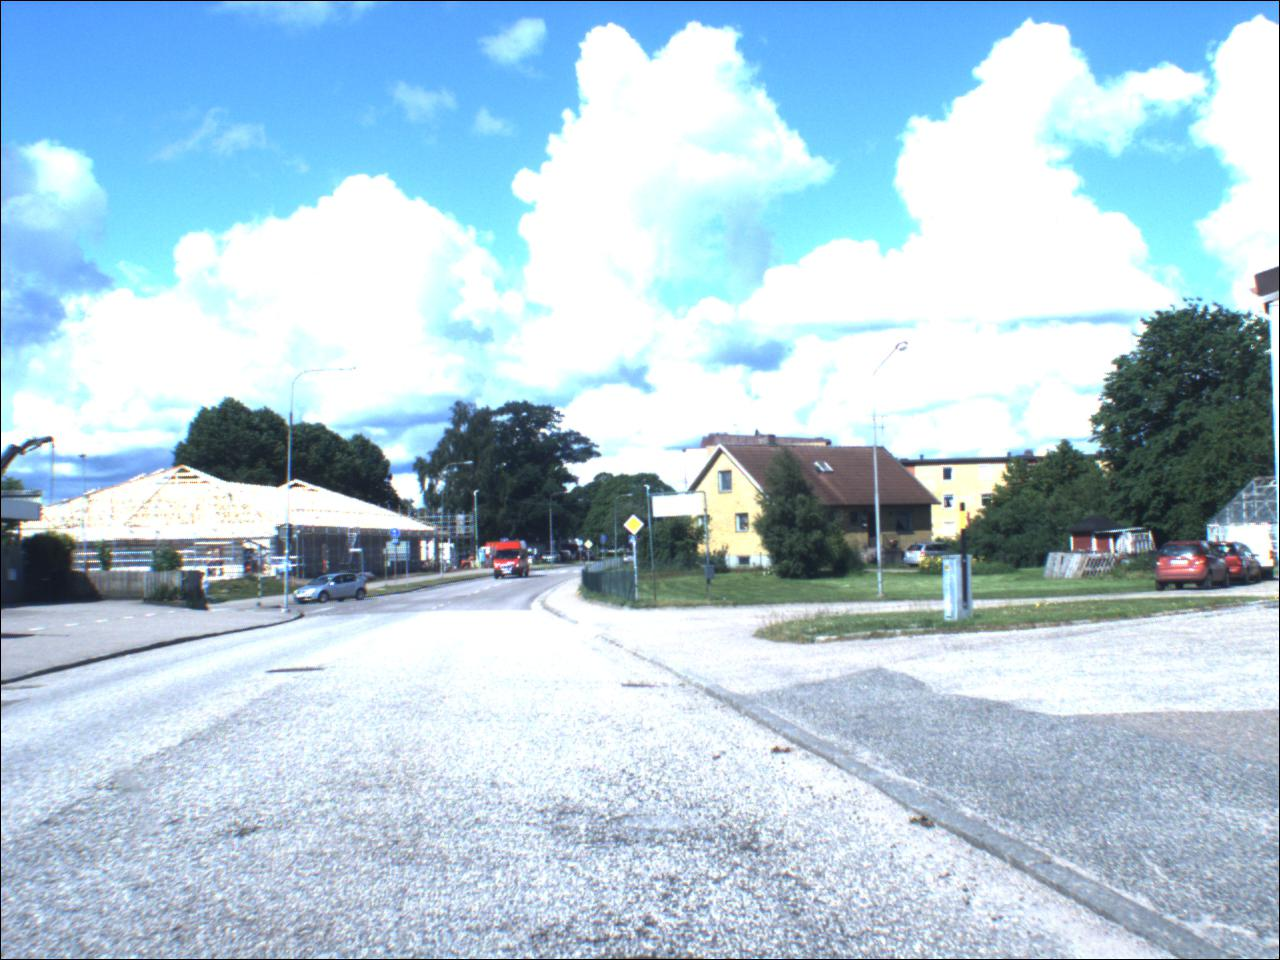PRIORITY_ROAD: (625, 515, 647, 537), (586, 541, 595, 552)
